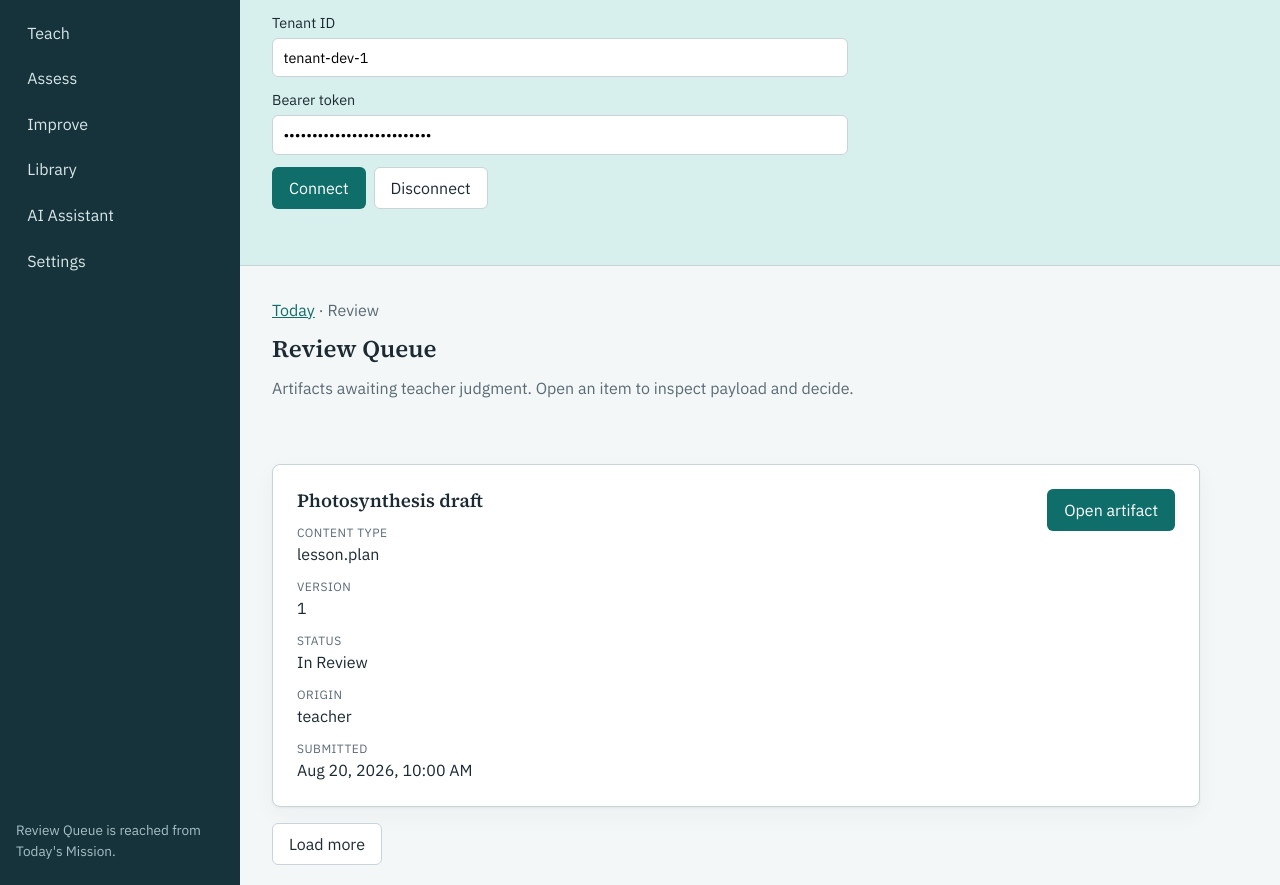
it: C. Queue list + cursor pagination + empty › renders queue fields and load-more pagination
(page scrolled)
Expected: the heading "Photosynthesis draft" is shown, [297, 489, 483, 512]
Expected: the text "lesson.plan" is shown, [297, 544, 379, 564]
Click the button "Load more": [327, 844] box [272, 823, 382, 865]
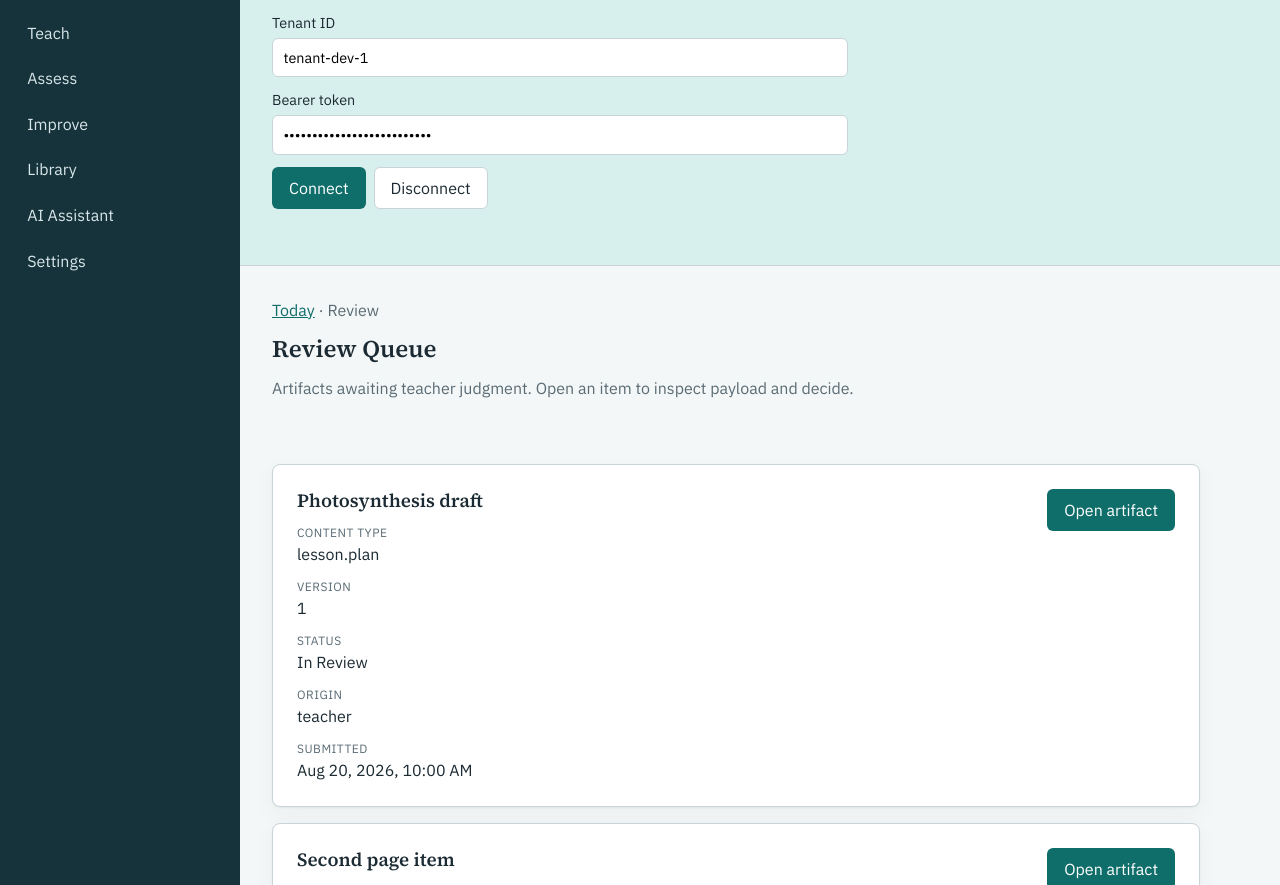
Now the heading "Second page item" is shown, box [297, 848, 472, 871]
